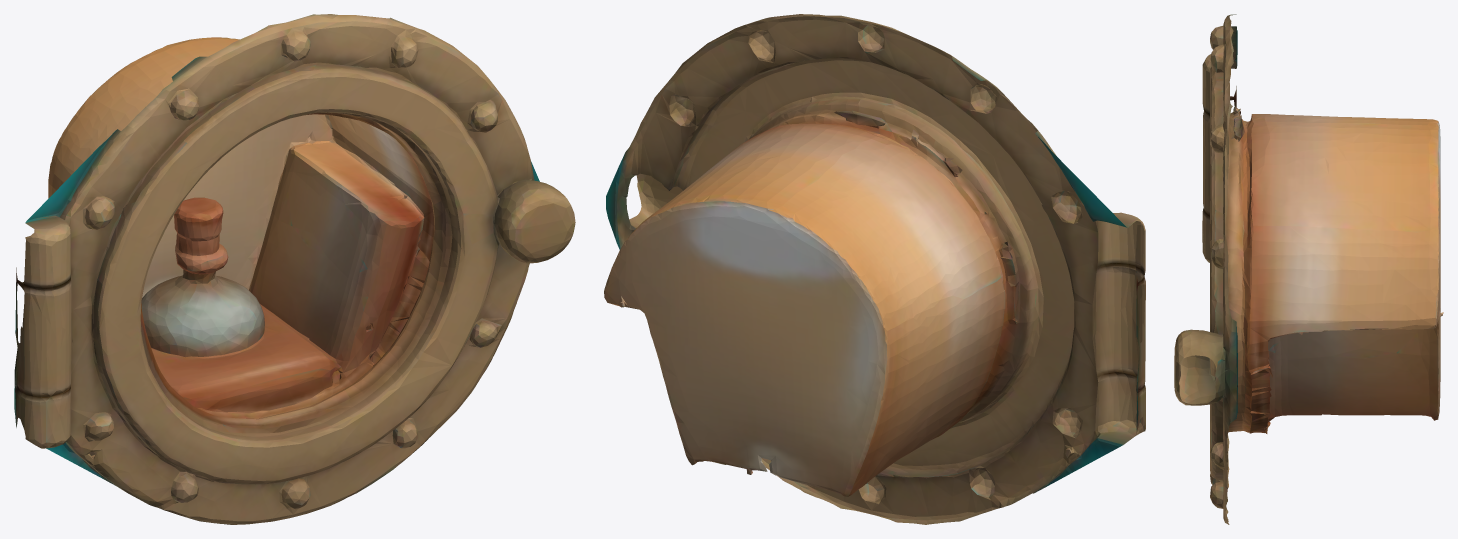
File: door.glb
The picture shows the model from 3 angles, left to right: view 1: azimuth 30°, elevation 25°; view 2: azimuth 150°, elevation 25°; view 3: azimuth 270°, elevation 25°; orthographic projection. The views are drawn at different scales.
Parts seen in each view (by area): view 1: source_surface_0; view 2: source_surface_0; view 3: source_surface_0.
Part boxes in pixels (left/top/right/bottom): source_surface_0: left=14, top=14, right=575, bottom=524; source_surface_0: left=604, top=14, right=1145, bottom=524; source_surface_0: left=1174, top=14, right=1443, bottom=524.
Bounding box in the file's own units: 0.1758 × 0.1565 × 0.0832.
Materials: 1 (1 with a texture image).
